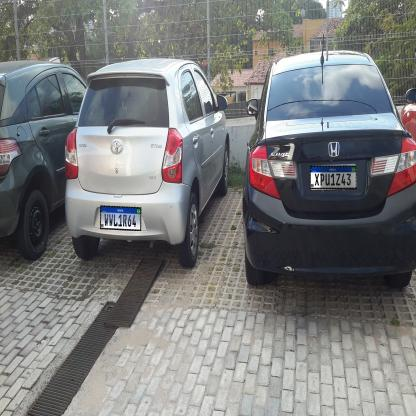PlacaM: (100, 205, 141, 231), (310, 166, 356, 189)
